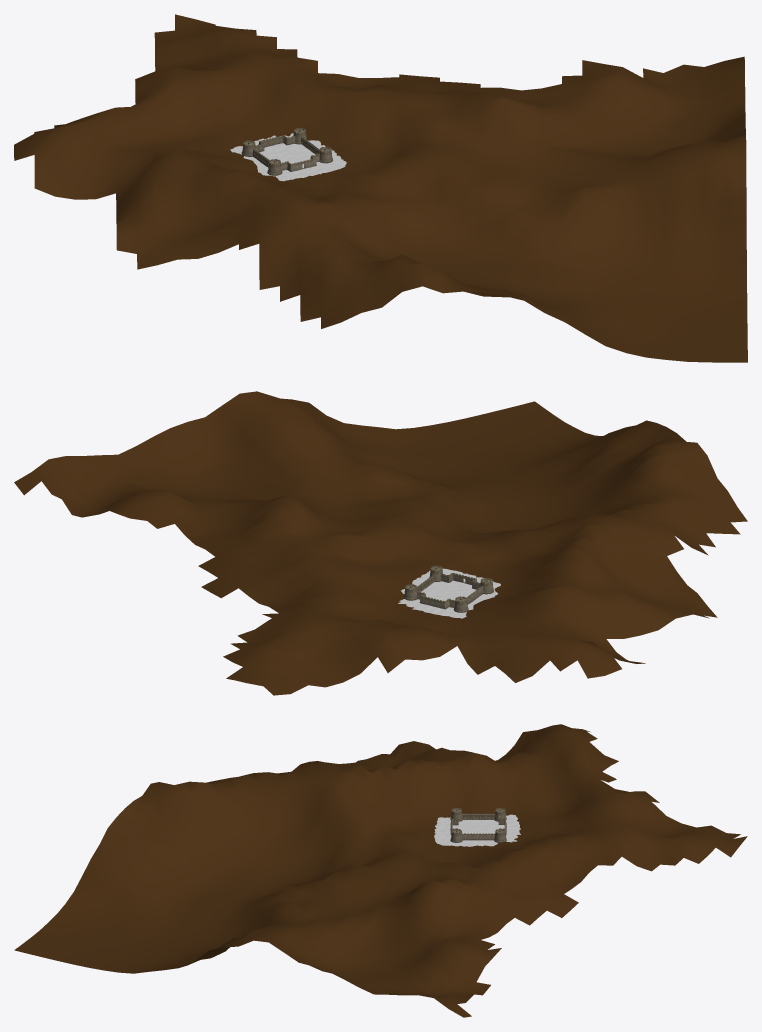
Rendered from courtyard04.gltf.
3 renders of one model, top to bottom at view 1: azimuth 30°, elevation 25°; view 2: azimuth 150°, elevation 25°; view 3: azimuth 270°, elevation 25°, orthographic. The views are drawn at different scales.
Parts seen in each view (by area): view 1: Landscape-col, ground_plane-col; view 2: Landscape-col, ground_plane-col; view 3: Landscape-col, ground_plane-col.
Boxes of the visible parts, x1,y1,x2,y2 form: Landscape-col: [14, 14, 747, 362]; ground_plane-col: [230, 133, 346, 181]; Landscape-col: [14, 391, 747, 695]; ground_plane-col: [398, 568, 500, 618]; Landscape-col: [14, 724, 747, 1017]; ground_plane-col: [434, 814, 520, 846].
Size of the model in its own units: 816 by 102 by 905.
